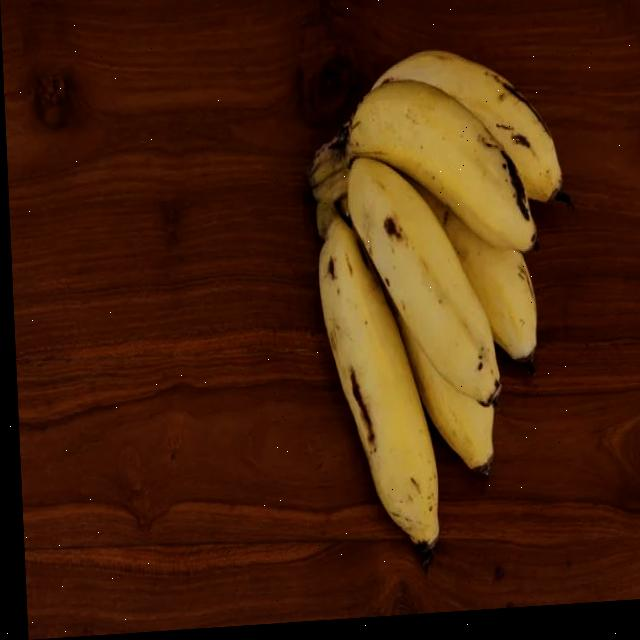banana: (297, 34, 594, 583)
